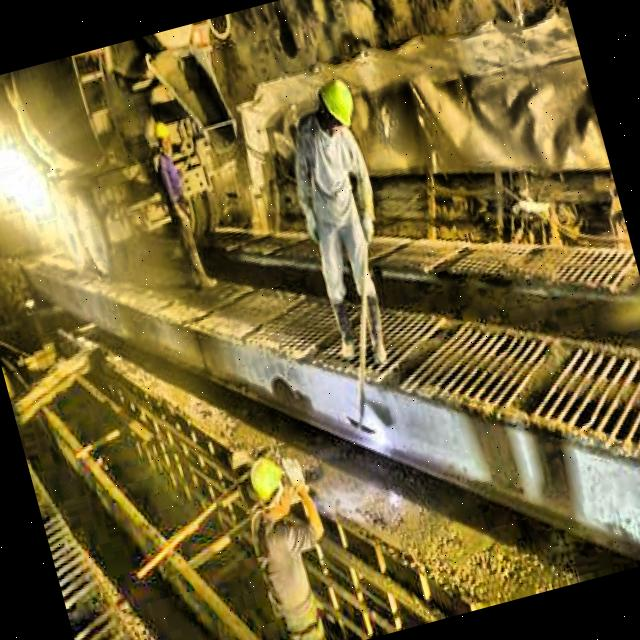helmet: (308, 67, 366, 146), (241, 450, 298, 528), (151, 114, 178, 158)
